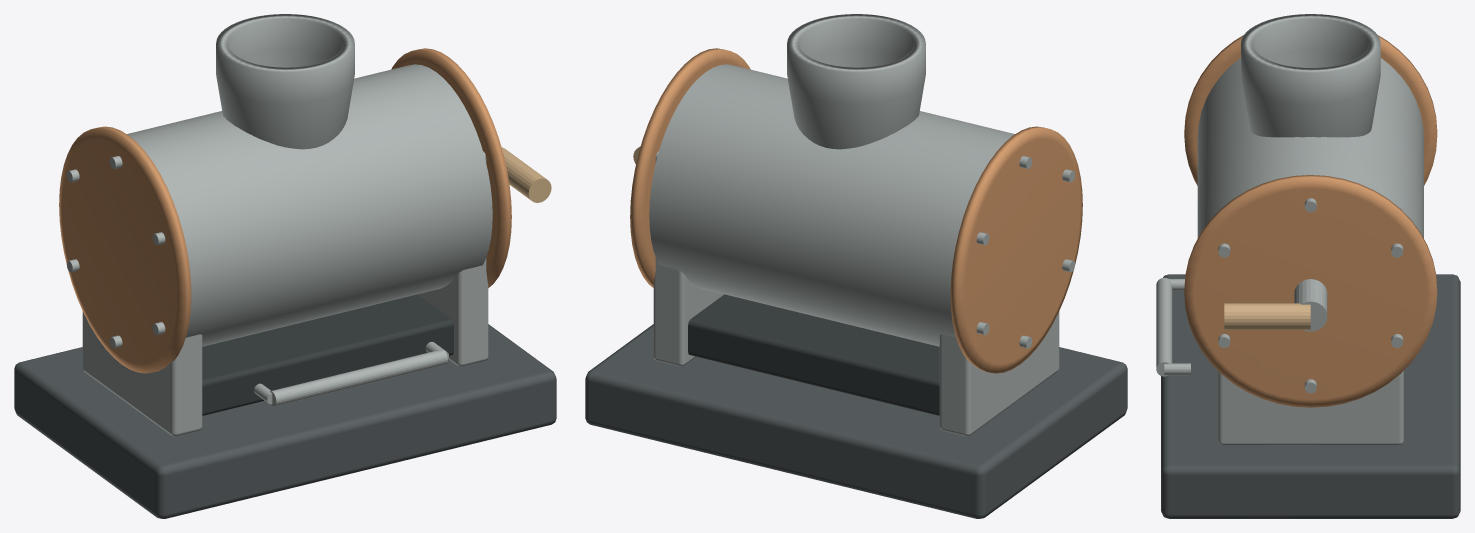
The model's file is coffee-roastery-and-cupping-room-coffee-roastery-and-c-a5404647__32203.glb.
3 views of the same model, side by side, from view 1: azimuth 30°, elevation 25°; view 2: azimuth 150°, elevation 25°; view 3: azimuth 270°, elevation 25° (orthographic).
Parts seen in each view (by area): view 1: coffee-roastery-and-cupping-room-bench-sample-roaster; view 2: coffee-roastery-and-cupping-room-bench-sample-roaster; view 3: coffee-roastery-and-cupping-room-bench-sample-roaster.
Boxes of the visible parts, x1,y1,x2,y2 form: coffee-roastery-and-cupping-room-bench-sample-roaster: (14, 14, 556, 518); coffee-roastery-and-cupping-room-bench-sample-roaster: (585, 14, 1127, 518); coffee-roastery-and-cupping-room-bench-sample-roaster: (1156, 14, 1460, 518).
Bounding box in the file's own units: 0.74 × 0.63 × 0.457.
